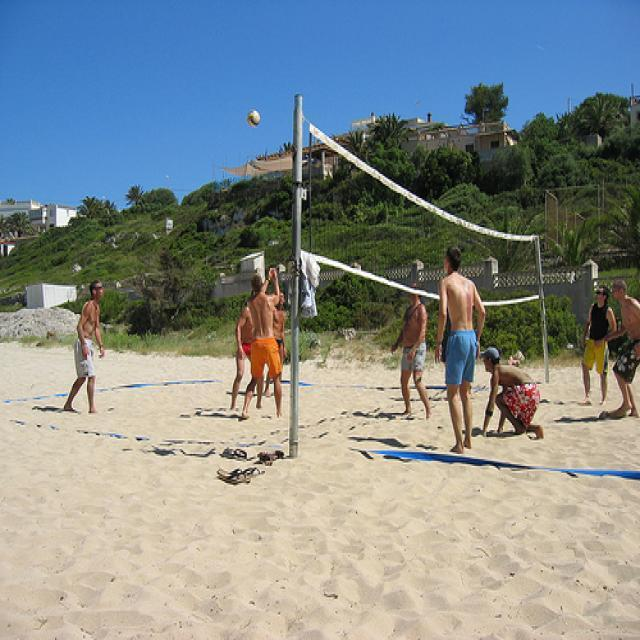volleyball: (247, 109, 260, 128)
